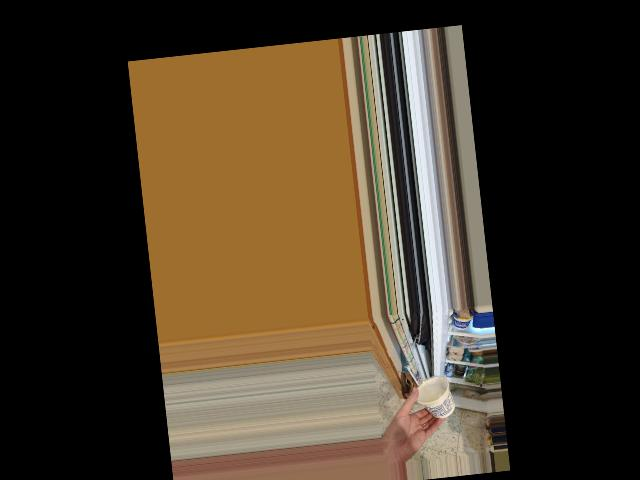cotage: (416, 375, 453, 422)
